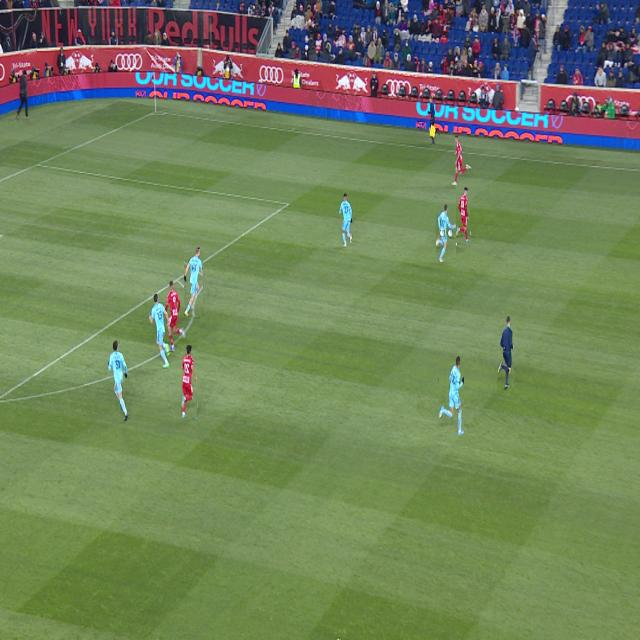football: (440, 230, 445, 237)
player: (439, 356, 464, 435), (108, 340, 129, 421), (149, 294, 170, 368), (164, 281, 185, 351), (184, 248, 203, 317), (437, 204, 456, 263), (182, 345, 197, 418), (451, 135, 472, 186), (457, 187, 470, 243), (339, 193, 352, 247)
referee: (498, 317, 514, 388)
